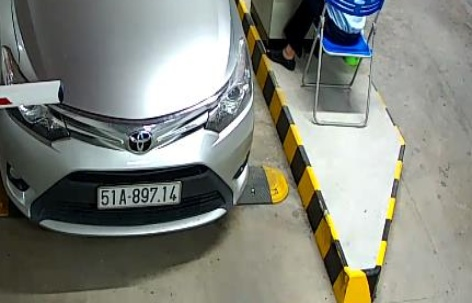plate: (94, 180, 181, 207)
